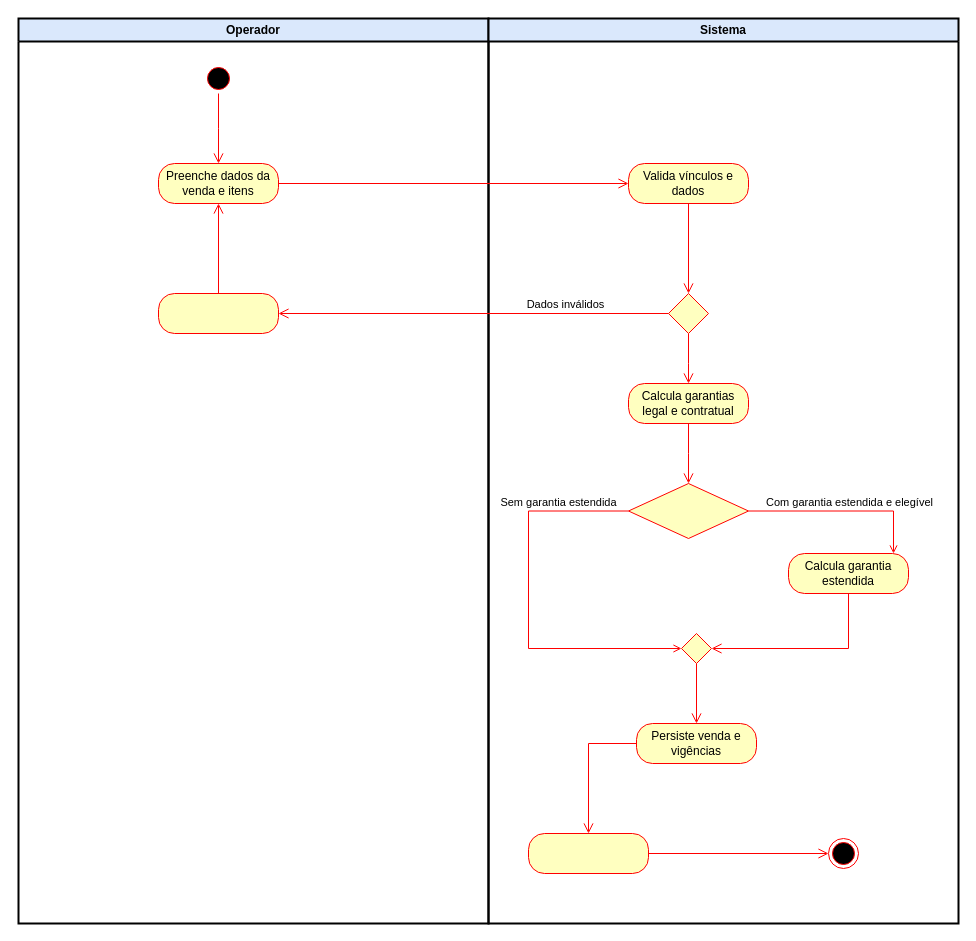
The diagram is 976 pixels wide and 941 high, and some of its shapes have lost their labels. Each missing label, with the centre of its shape:
"Corrige informações" belongs at (218,313).
"Exibe confirmação e prazos" belongs at (588,853).
"Garantia estendida?" belongs at (688,510).
